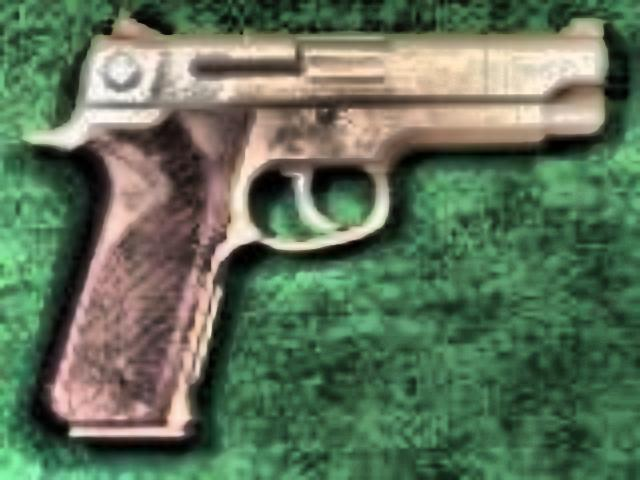pistol: (16, 12, 604, 432)
